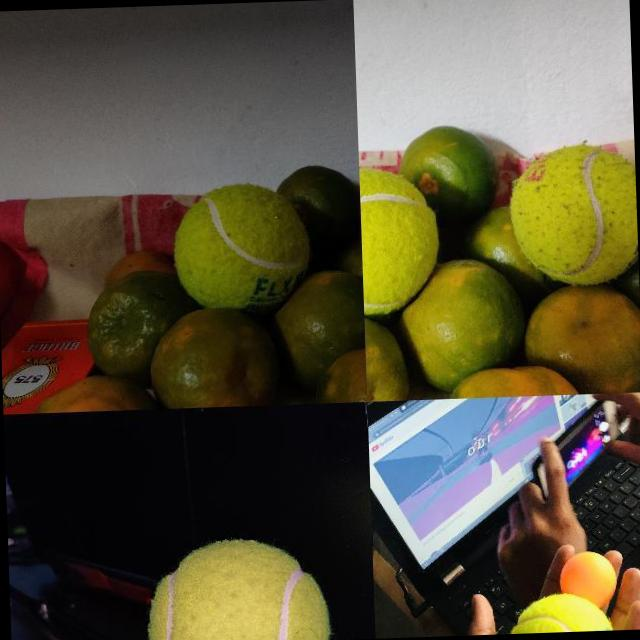tennis-ball: (143, 537, 331, 640), (506, 142, 638, 287), (170, 181, 284, 307), (358, 166, 408, 308), (506, 591, 616, 633)
